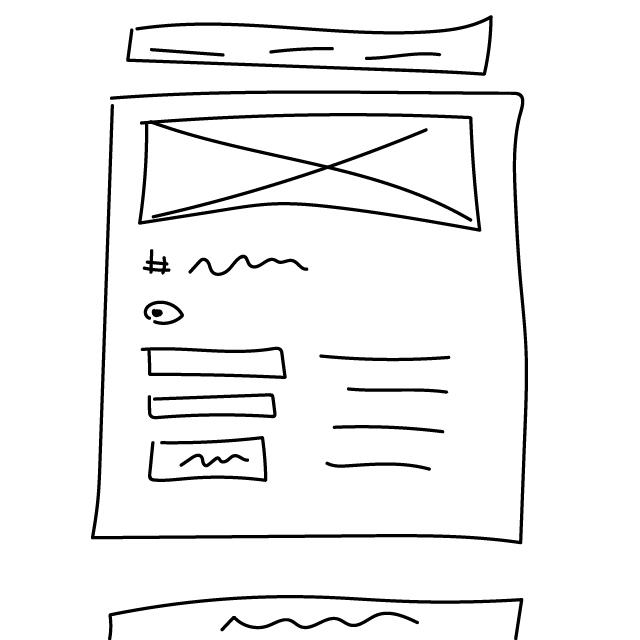button: (145, 435, 273, 486)
checkbox: (145, 300, 191, 329)
container: (84, 87, 542, 552)
footer: (95, 581, 539, 640)
frame: (135, 108, 488, 234)
heading: (146, 247, 311, 282)
input: (139, 343, 290, 384), (143, 391, 282, 422)
nav: (123, 12, 498, 79)
text: (320, 347, 458, 477)
